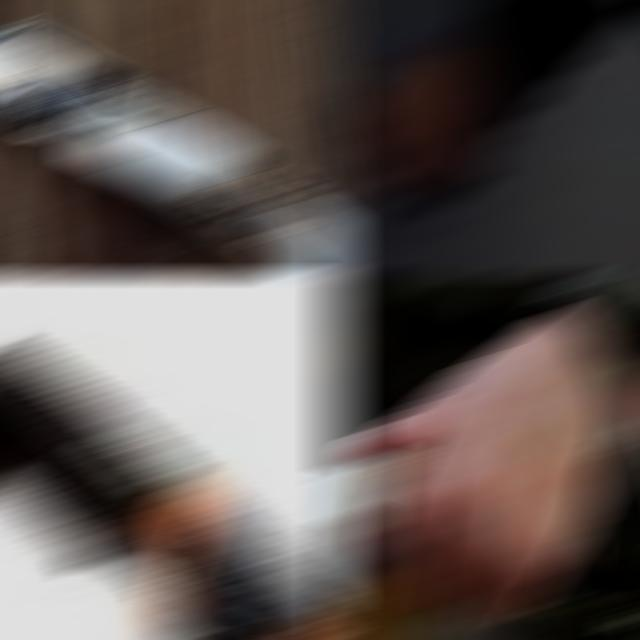Knife: (0, 352, 350, 636), (328, 28, 398, 176), (328, 456, 422, 538)
Knife_Handle: (328, 308, 636, 629), (328, 22, 494, 212)
